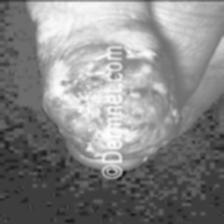Potentially Malignant Skin Tumors: (39, 40, 104, 156), (122, 47, 176, 158)
